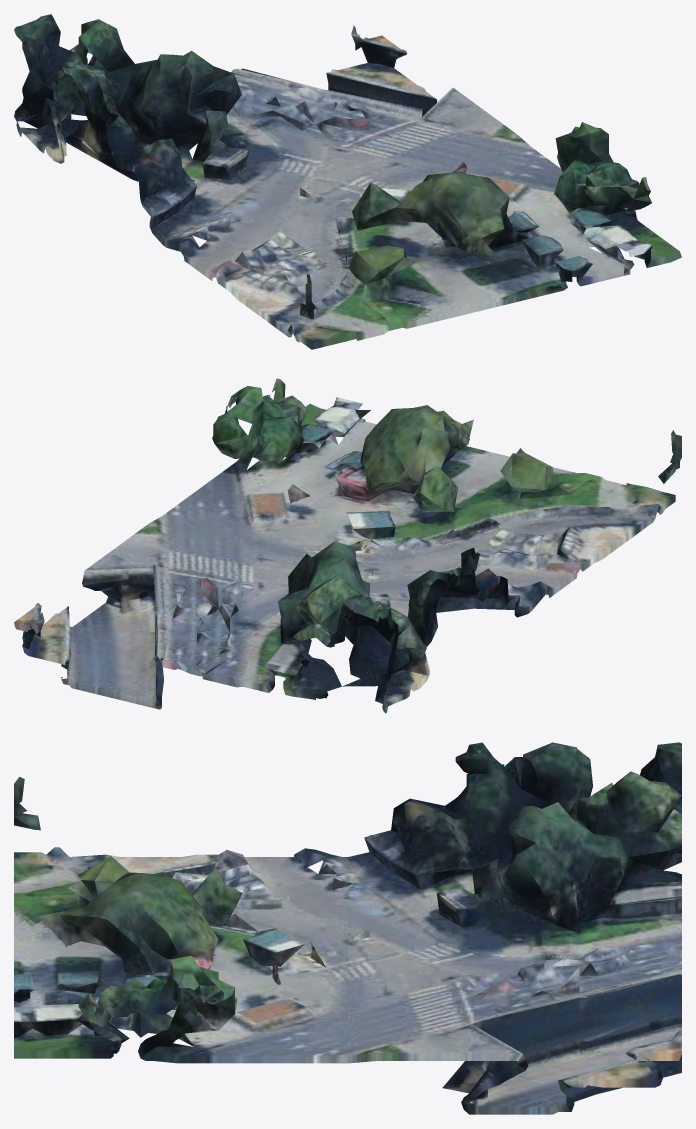
3 views of the same model, one above another, from view 1: azimuth 30°, elevation 25°; view 2: azimuth 150°, elevation 25°; view 3: azimuth 270°, elevation 25° (orthographic). The views are drawn at different scales.
Visible parts, largest first — view 1: 3043627270436162642_0; view 2: 3043627270436162642_0; view 3: 3043627270436162642_0.
Part boxes in pixels (x1=…): 3043627270436162642_0: x1=14, y1=14, x2=681, y2=349; 3043627270436162642_0: x1=14, y1=378, x2=681, y2=713; 3043627270436162642_0: x1=14, y1=742, x2=681, y2=1114.
Size of the model in its own units: 55.84 by 22.51 by 76.52.
1 material, 1 textured.
